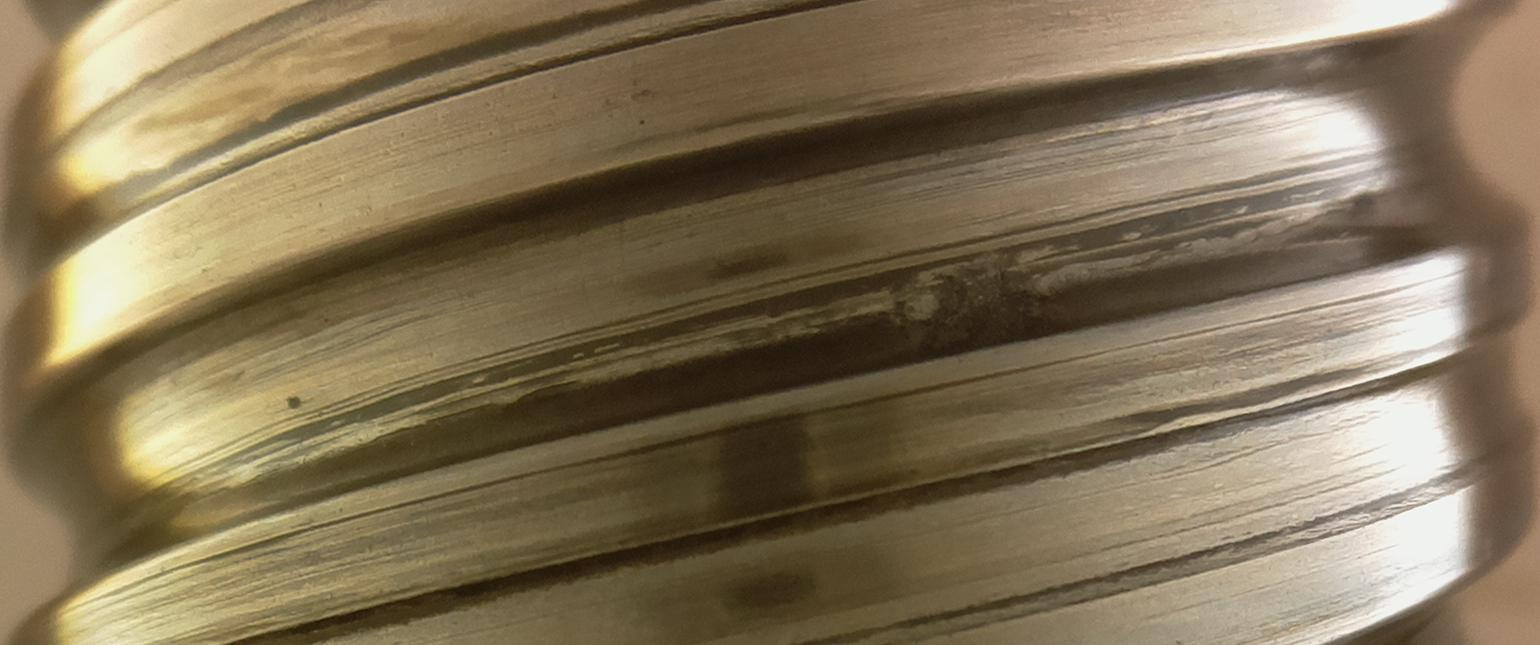pitting: (878, 265, 1064, 364)
